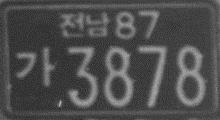3: (66, 45, 100, 108)
7: (136, 44, 167, 109), (137, 9, 160, 39)
8: (102, 46, 134, 109), (175, 43, 206, 107), (116, 10, 136, 39)
가: (15, 45, 56, 88)
전남_O: (60, 10, 109, 39)
